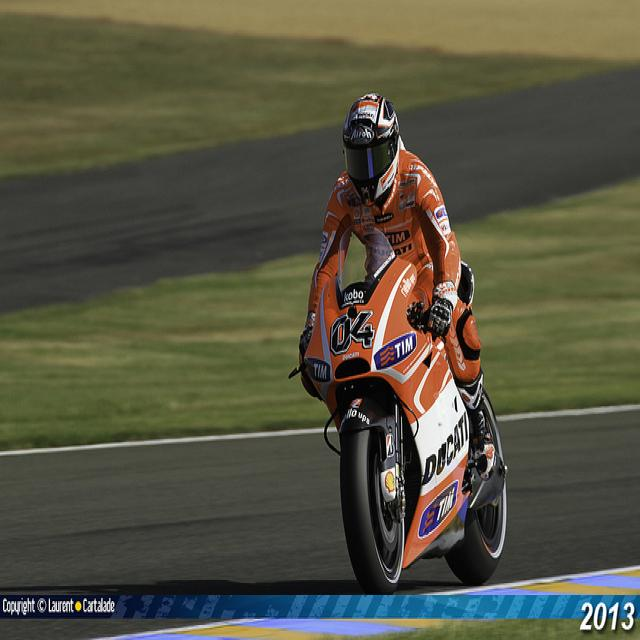motor: (297, 223, 505, 601)
